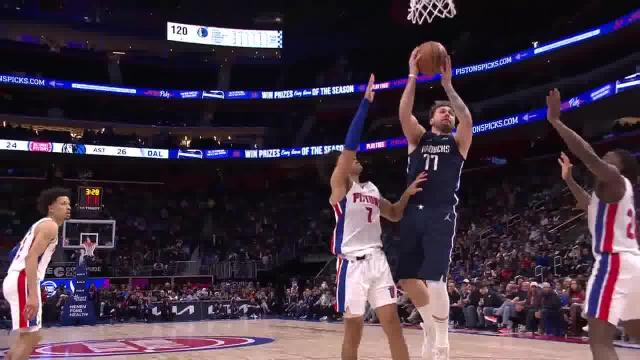ball-handler: (398, 33, 474, 360)
player: (330, 71, 425, 360), (543, 86, 640, 360), (0, 174, 72, 360)
